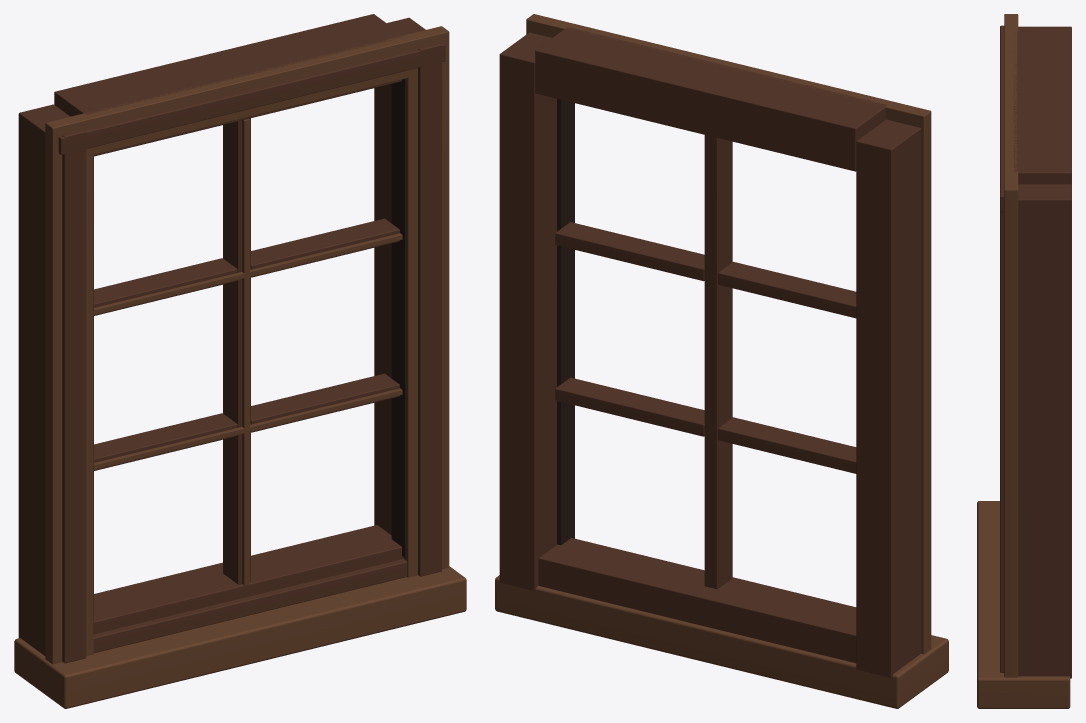
File: RainyWindow.fbx
3 renders of one model, left to right at view 1: azimuth 30°, elevation 25°; view 2: azimuth 150°, elevation 25°; view 3: azimuth 270°, elevation 25°, orthographic. The views are drawn at different scales.
Parts seen in each view (by area): view 1: Sill, Jamb_Left, Casing_Left, CasingBead_Left, CasingBead_Right, BottomRail, Head, Casing_Right, HeadCasing, MullionVertical, Jamb_Right, Rebate_Right (+9 smaller); view 2: Jamb_Left, Jamb_Right, Head, BottomRail, Sill, MullionVertical, Rebate_Right, Casing_Left, MullionHorizontal_1_Right, MullionHorizontal_0_Right, MullionHorizontal_0_Left, MullionHorizontal_1_Left (+1 smaller); view 3: Jamb_Right, Head, Casing_Right, Sill, HeadCasing, CasingBead_Right, HeadBead, Jamb_Left.
Boxes of the visible parts, <box> form: Sill: <box>14,566,466,708</box>; Jamb_Left: <box>18,104,69,655</box>; Casing_Left: <box>45,125,93,664</box>; CasingBead_Left: <box>62,130,86,663</box>; CasingBead_Right: <box>418,43,441,576</box>; BottomRail: <box>94,525,403,634</box>; Head: <box>54,14,403,156</box>; Casing_Right: <box>403,38,449,577</box>; HeadCasing: <box>45,26,449,163</box>; MullionVertical: <box>223,118,250,584</box>; Jamb_Right: <box>374,17,425,534</box>; Rebate_Right: <box>391,78,406,558</box>; Jamb_Left: <box>856,119,921,677</box>; Jamb_Right: <box>499,32,556,590</box>; Head: <box>535,27,886,171</box>; BottomRail: <box>538,538,856,663</box>; Sill: <box>495,575,948,708</box>; MullionVertical: <box>704,135,732,589</box>; Rebate_Right: <box>557,99,574,545</box>; Casing_Left: <box>885,114,931,654</box>; MullionHorizontal_1_Right: <box>555,222,704,281</box>; MullionHorizontal_0_Right: <box>555,377,704,436</box>; MullionHorizontal_0_Left: <box>718,417,856,473</box>; MullionHorizontal_1_Left: <box>718,261,856,318</box>; Jamb_Right: <box>1018,184,1071,678</box>; Head: <box>1013,31,1071,184</box>; Casing_Right: <box>1004,196,1018,677</box>; Sill: <box>977,501,1070,708</box>; HeadCasing: <box>1004,14,1018,203</box>; CasingBead_Right: <box>1000,184,1004,672</box>; HeadBead: <box>1000,25,1004,211</box>; Jamb_Left: <box>1018,26,1071,31</box>.
Bounding box in the file's own units: 136 × 184 × 30.5.
